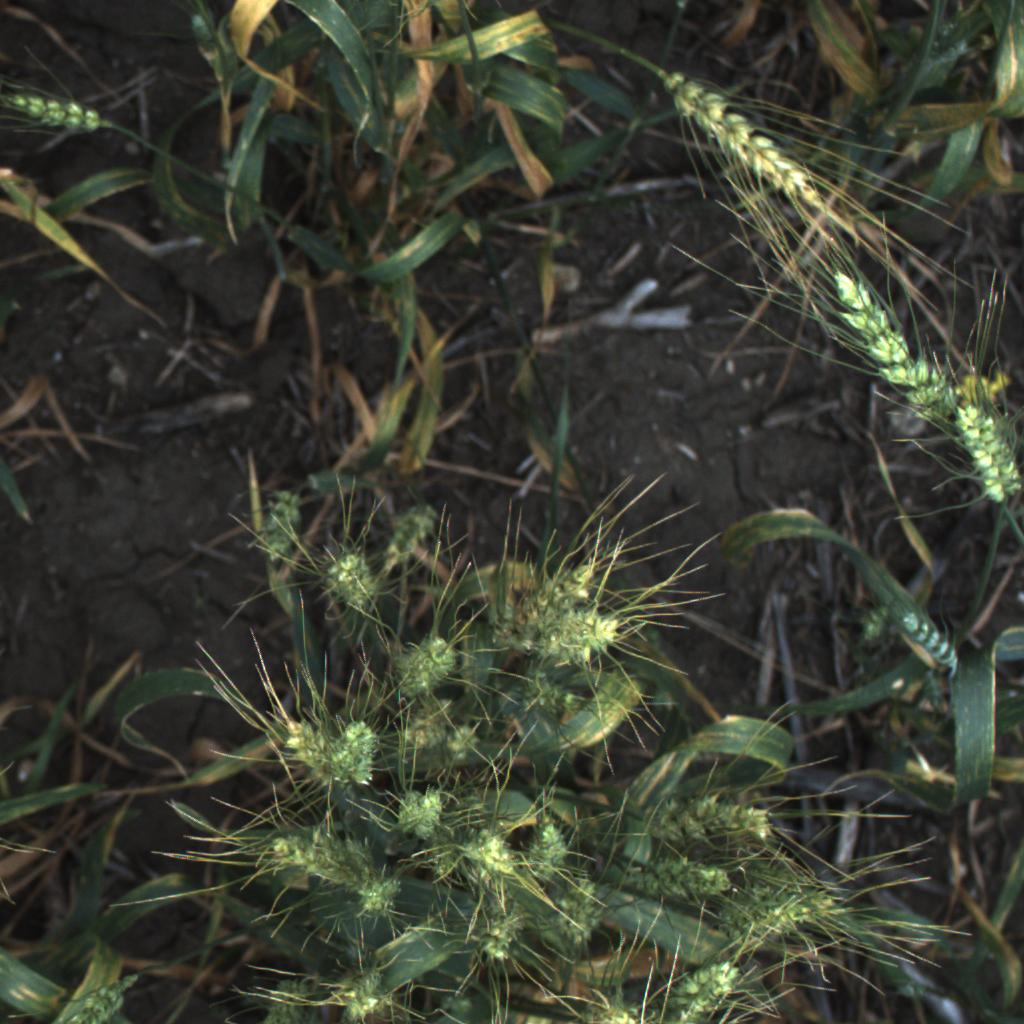0-0: (818, 256, 988, 460), (653, 57, 840, 219), (687, 880, 845, 967), (495, 536, 618, 637), (947, 380, 1023, 520), (628, 789, 801, 849), (509, 600, 644, 669), (706, 853, 819, 935), (0, 77, 130, 146), (242, 814, 377, 879), (613, 850, 747, 910), (656, 951, 768, 1019), (382, 623, 471, 701), (277, 704, 349, 800), (893, 606, 974, 688), (451, 820, 537, 895), (309, 531, 393, 606), (454, 910, 541, 978), (510, 671, 612, 725), (333, 862, 407, 935), (329, 710, 388, 791), (555, 871, 614, 952), (49, 972, 146, 1021), (517, 808, 579, 884), (323, 961, 393, 1022), (564, 987, 666, 1022), (391, 780, 448, 841), (394, 704, 448, 759), (439, 715, 488, 770), (416, 848, 456, 894)
